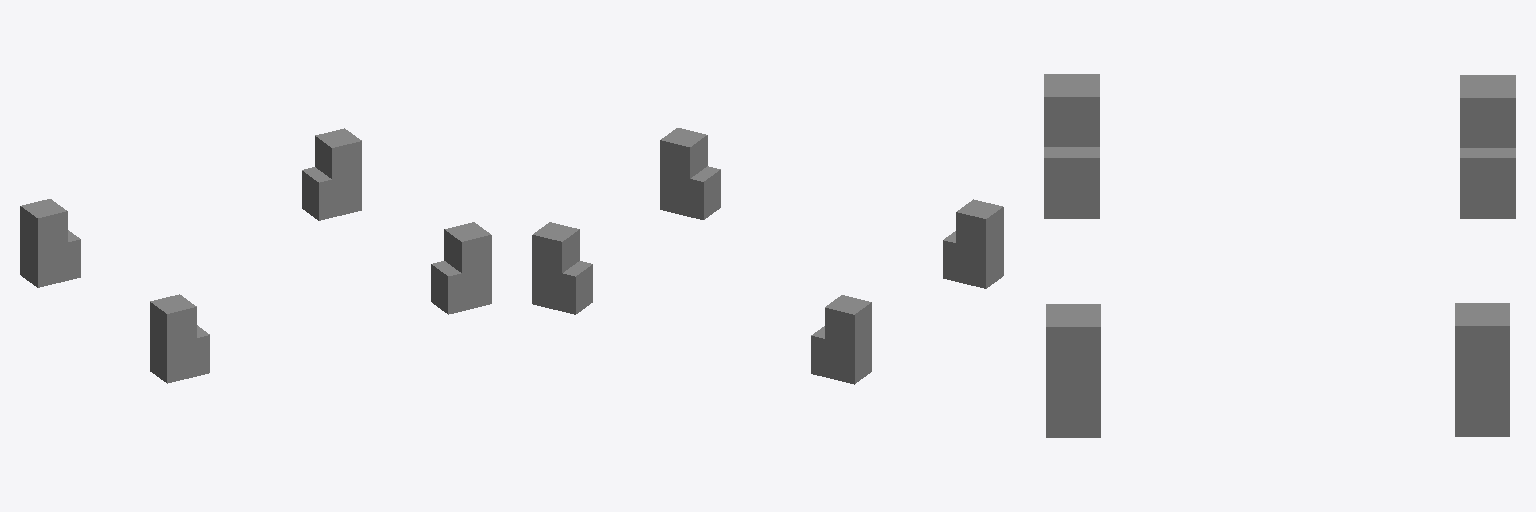
URDF robot description (CollisionBlocks):
<?xml version="1.0"?>
<robot name="CollisionBlocks">

  <link name="tool_link">
    <visual>
      <origin xyz="0 0 0" rpy="-0 0 0"/>
      <geometry>
        <mesh filename="meshes/CollisionBlocks.stl" scale="0.001 0.001 0.001"/>
      </geometry>
      <material name="gray">
        <color rgba="0.6 0.6 0.6 1"/>
      </material>
    </visual>
    <collision>
      <origin xyz="0 0 0" rpy="0 0 0"/>
      <geometry>
        <mesh filename="meshes/CollisionBlocks.stl" scale="0.001 0.001 0.001"/>
      </geometry>
    </collision>
  </link>
</robot>

--- Facts derived from the render (not from the file) ---
3 views of the same robot in one strip: view 1: azimuth 30°, elevation 25°; view 2: azimuth 150°, elevation 25°; view 3: azimuth 270°, elevation 25° (orthographic).
Model CollisionBlocks with 1 links and 0 joints (none), rooted at tool_link, posed all joints at 0.
Links seen in each view (by area): view 1: tool_link; view 2: tool_link; view 3: tool_link.
Link boxes in pixels (box(x1,y1,x2,y2)): tool_link: box(20, 128, 491, 383); tool_link: box(532, 128, 1003, 384); tool_link: box(1044, 74, 1515, 437).
Bounding box of the posed robot: 0.977 × 0.7694 × 0.2 m (x, y, z).
1 mesh visuals loaded from 1 distinct referenced files (1 binary STL).
